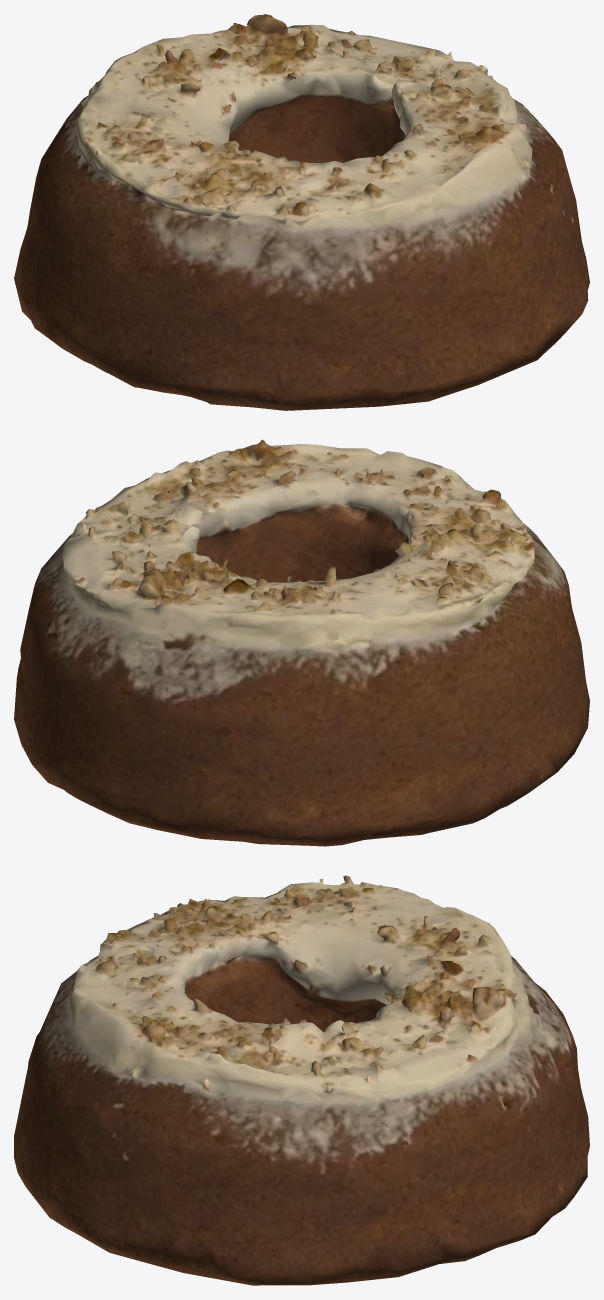
File: carrot_cake.glb
3 views of the same model, one above another, from view 1: azimuth 30°, elevation 25°; view 2: azimuth 150°, elevation 25°; view 3: azimuth 270°, elevation 25° (orthographic). The views are drawn at different scales.
Parts seen in each view (by area): view 1: carrot_cake; view 2: carrot_cake; view 3: carrot_cake.
Boxes of the visible parts, box(x1,y1,x2,y2) form: carrot_cake: box(14, 14, 589, 410); carrot_cake: box(14, 439, 589, 846); carrot_cake: box(14, 875, 589, 1285).
Bounding box in the file's own units: 0.2254 × 0.0976 × 0.2254.
Materials: 1 (1 with a texture image).
